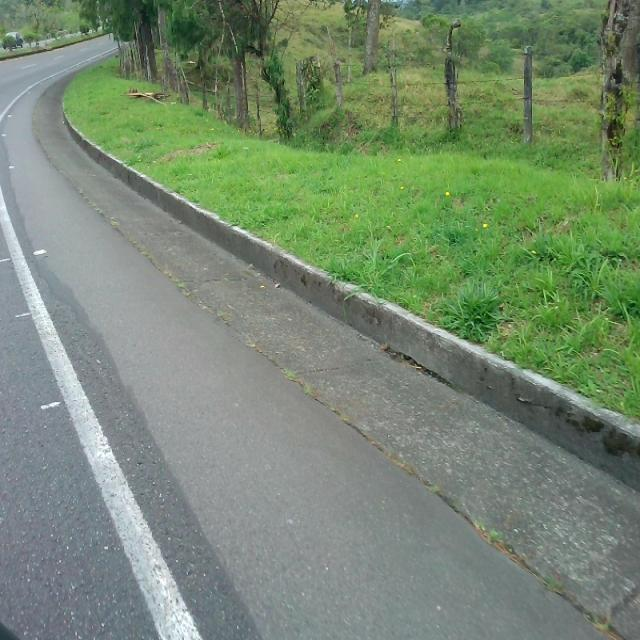DITCH: (3, 38, 638, 638)
